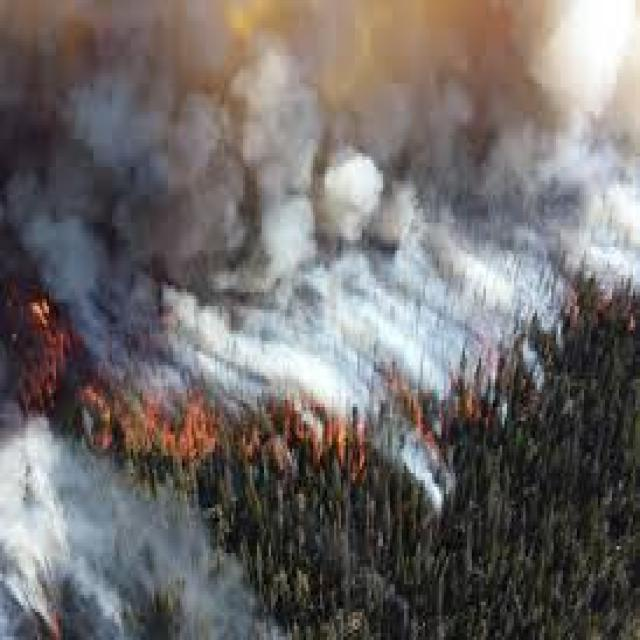Fire: (0, 274, 371, 483)
Smoke: (0, 0, 640, 296), (30, 0, 476, 330), (288, 0, 631, 257), (220, 0, 453, 362), (87, 9, 330, 280), (206, 1, 414, 284), (439, 0, 640, 271), (185, 0, 307, 371), (0, 422, 98, 638)
